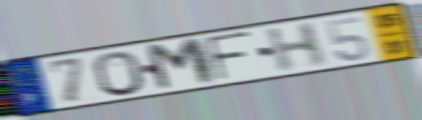5: (323, 14, 371, 62)
7: (46, 54, 87, 106)
F: (203, 29, 254, 83)
H: (264, 20, 328, 75)
M: (142, 35, 220, 94)
O: (91, 49, 148, 98)
